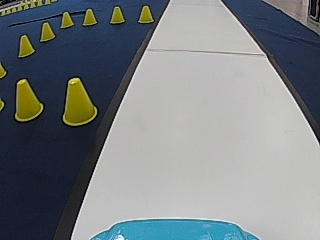cone: (61, 76, 98, 126), (14, 79, 43, 121), (17, 35, 35, 58), (39, 22, 56, 42), (137, 5, 154, 25), (109, 6, 125, 25), (82, 8, 97, 26), (59, 12, 74, 29)
